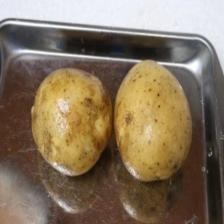Potato: (114, 56, 193, 184), (29, 65, 115, 178)
